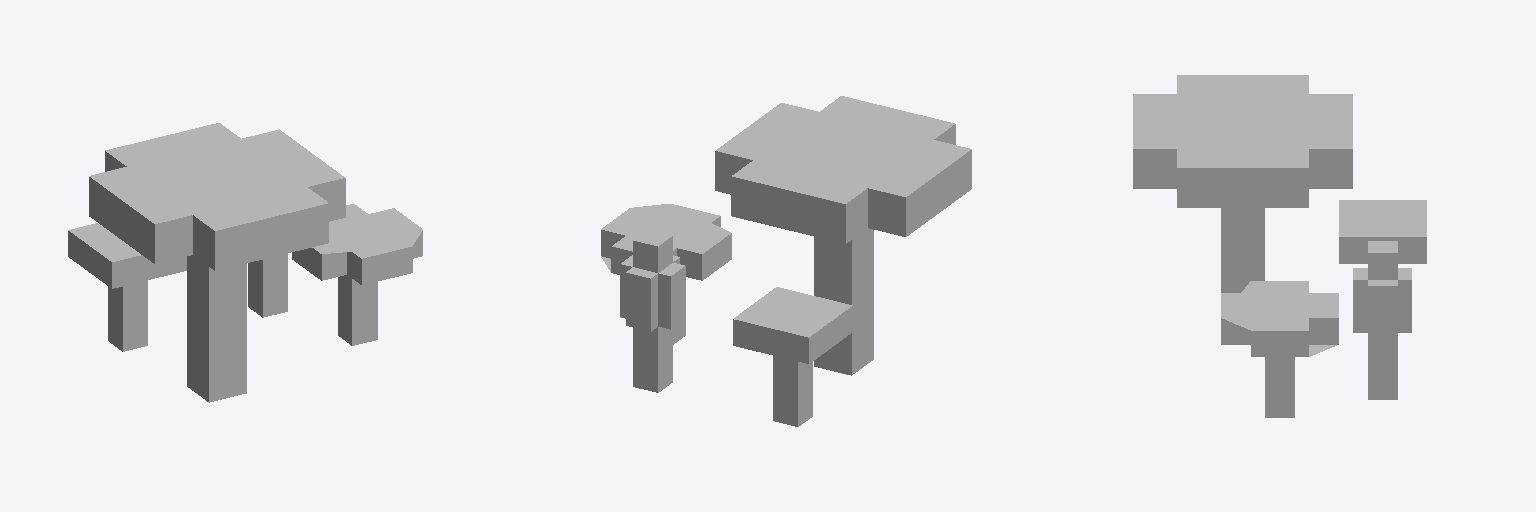
File: Endless light Mushrooms models.obj
The picture shows the model from 3 angles: view 1: azimuth 30°, elevation 25°; view 2: azimuth 150°, elevation 25°; view 3: azimuth 270°, elevation 25°; orthographic projection.
Parts seen in each view (by area): view 1: Mushrooms; view 2: Mushrooms; view 3: Mushrooms.
Boxes of the visible parts, x1=… form: Mushrooms: x1=68, y1=123, x2=422, y2=402; Mushrooms: x1=601, y1=96, x2=971, y2=426; Mushrooms: x1=1133, y1=75, x2=1426, y2=417.
Bounding box in the file's own units: 2.4 × 1.6 × 2.